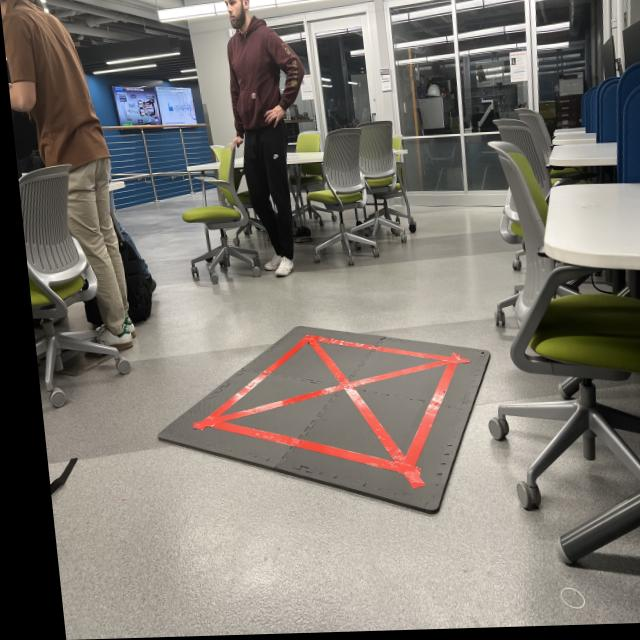landingPads: (144, 323, 497, 521)
